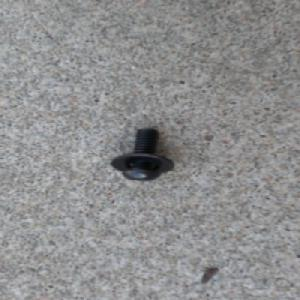BoltWasher: (109, 125, 176, 182)
